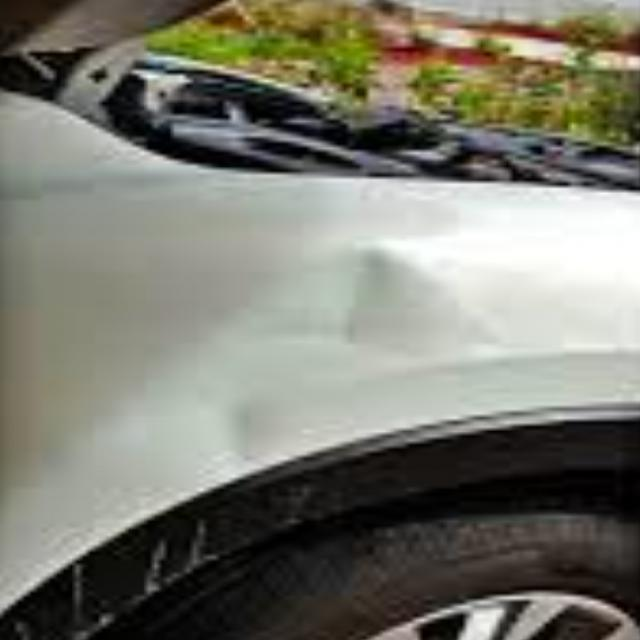dents: (262, 235, 456, 358), (158, 390, 300, 472)
